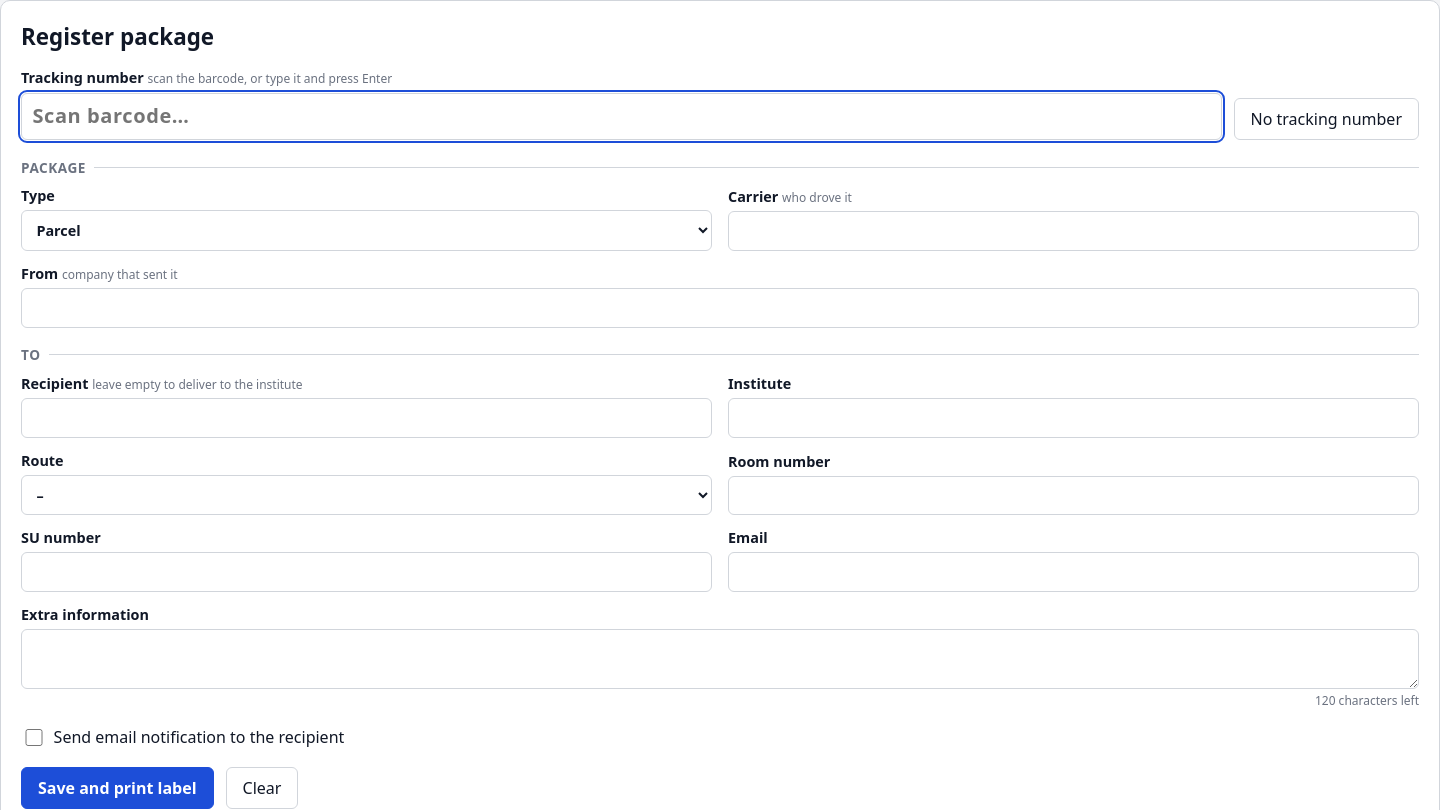
Test case: a failed save shows the reason, closes the label tab and keeps what was typed
Type "Chemistry" into the field labelled "Institute".
click(1074, 418); type("Chemistry")  # box [728,398,1419,438]
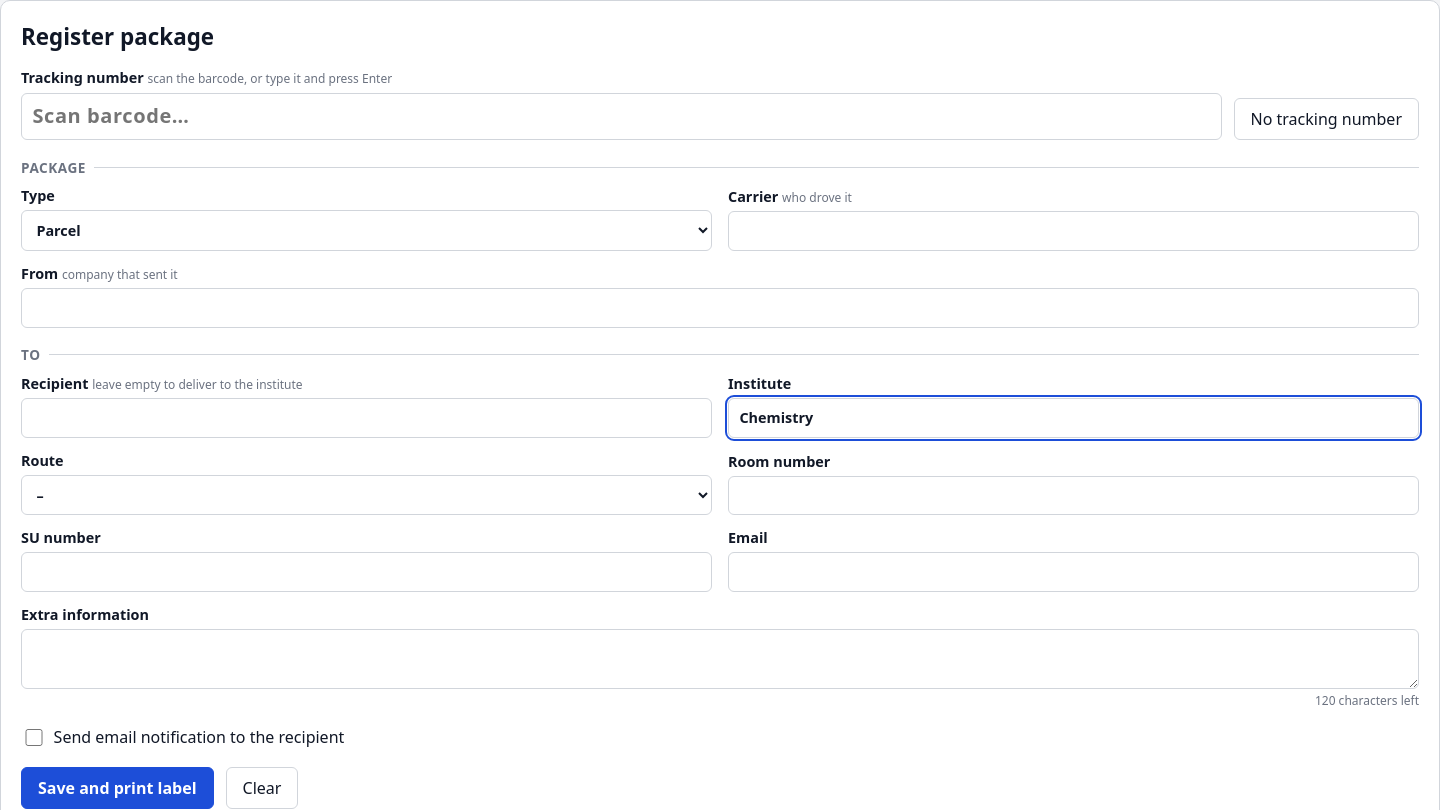
Click the button "Save and print label".
click(117, 788)  # box [21,767,214,809]
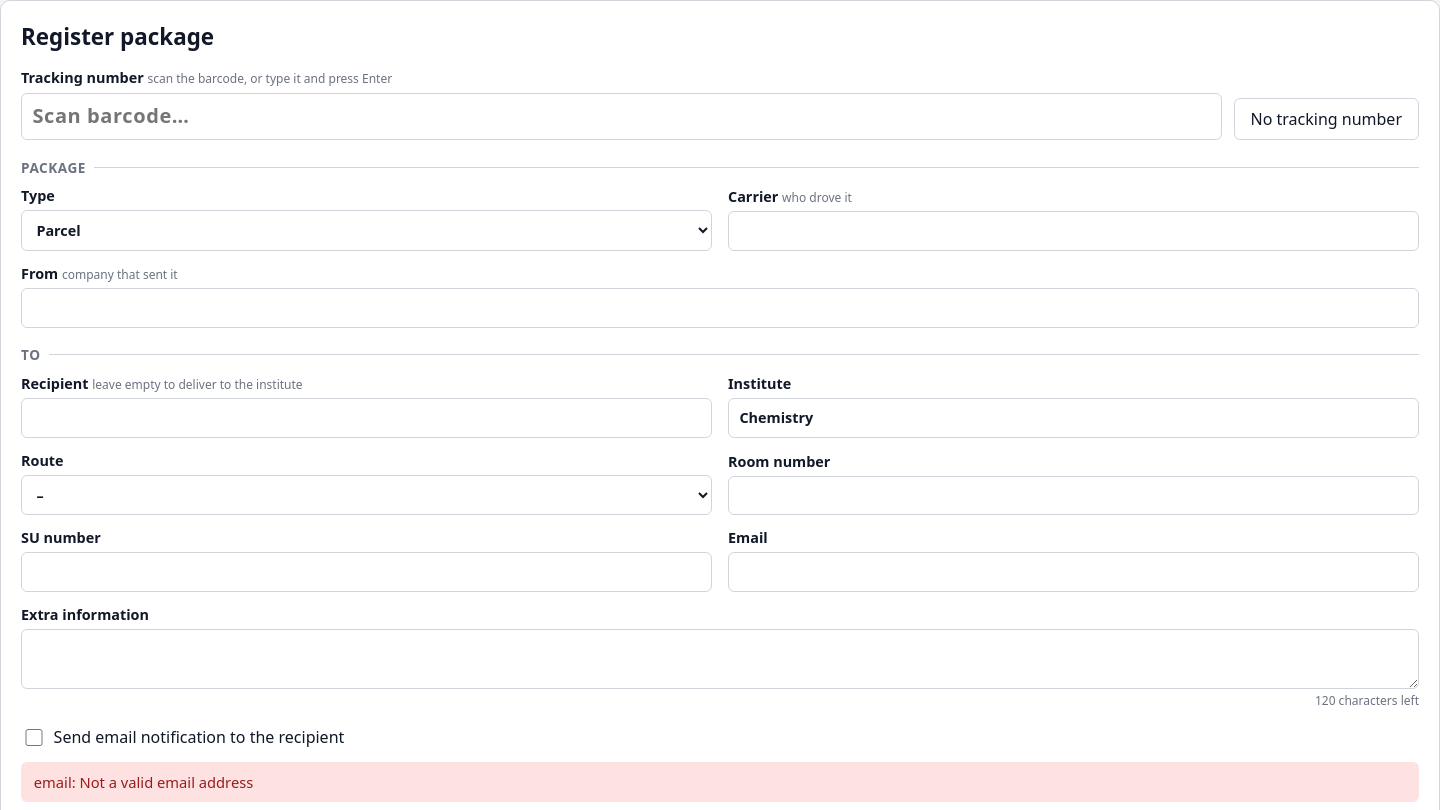
Now the message shows "Not a valid email address", box [34,772,253,792]
